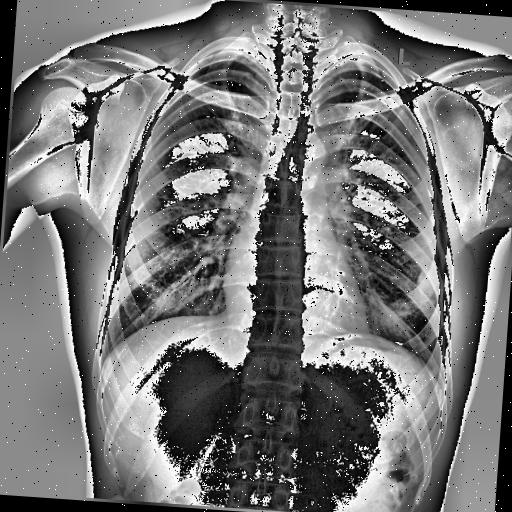8- Nodule-Mass: (417, 266, 437, 294), (416, 266, 434, 288), (414, 270, 432, 288)
